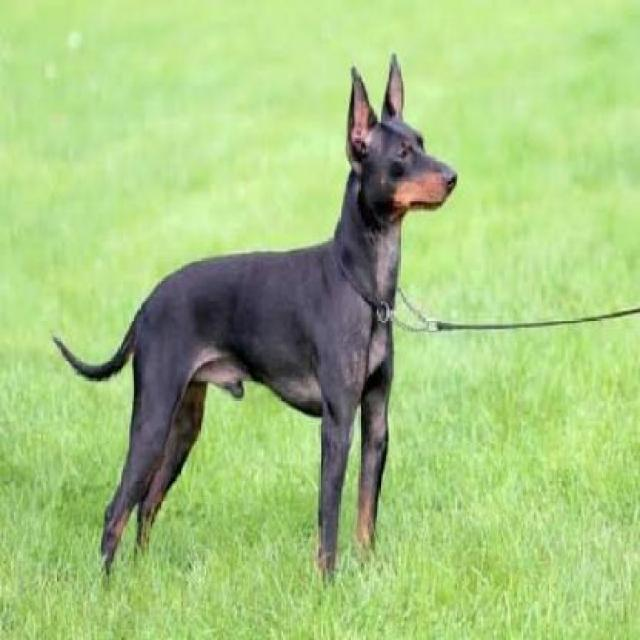animals: (24, 48, 519, 584)
